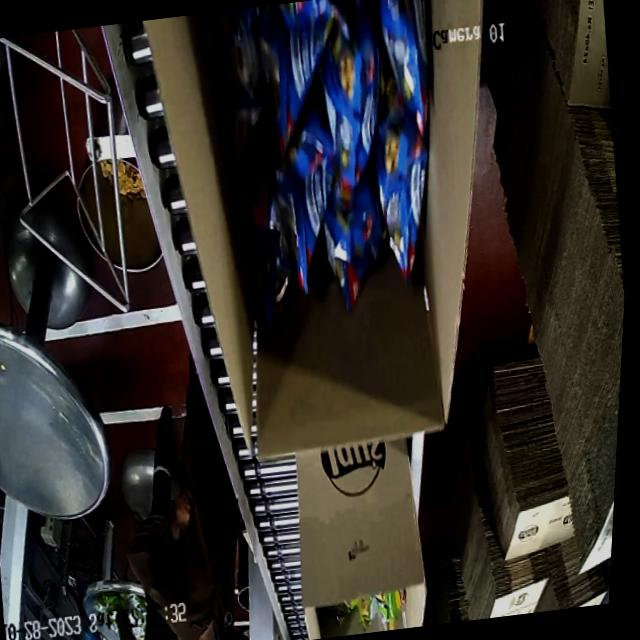PAPRIKA: (203, 0, 456, 334)
